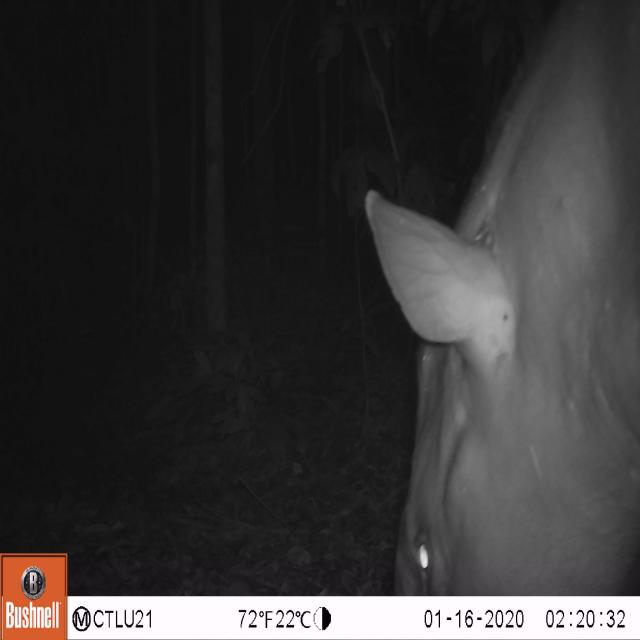Lowland Tapir: (349, 7, 640, 594)
